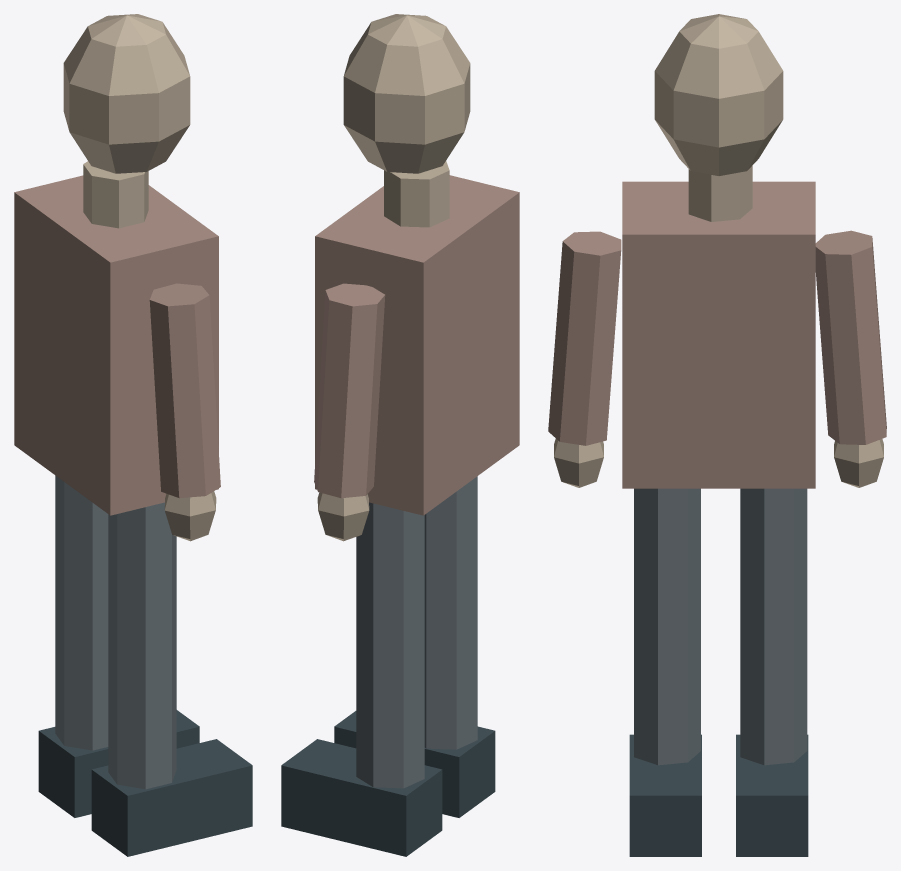
Rendered from person.glb.
The picture shows the model from 3 angles, left to right: view 1: azimuth 30°, elevation 25°; view 2: azimuth 150°, elevation 25°; view 3: azimuth 270°, elevation 25°; orthographic projection.
Parts seen in each view (by area): view 1: person; view 2: person; view 3: person.
Boxes of the visible parts, bbox=[...] form: person: bbox=[14, 14, 252, 856]; person: bbox=[281, 14, 519, 856]; person: bbox=[548, 14, 886, 856].
Bounding box in the file's own units: 0.35 × 1.83 × 0.7014.
